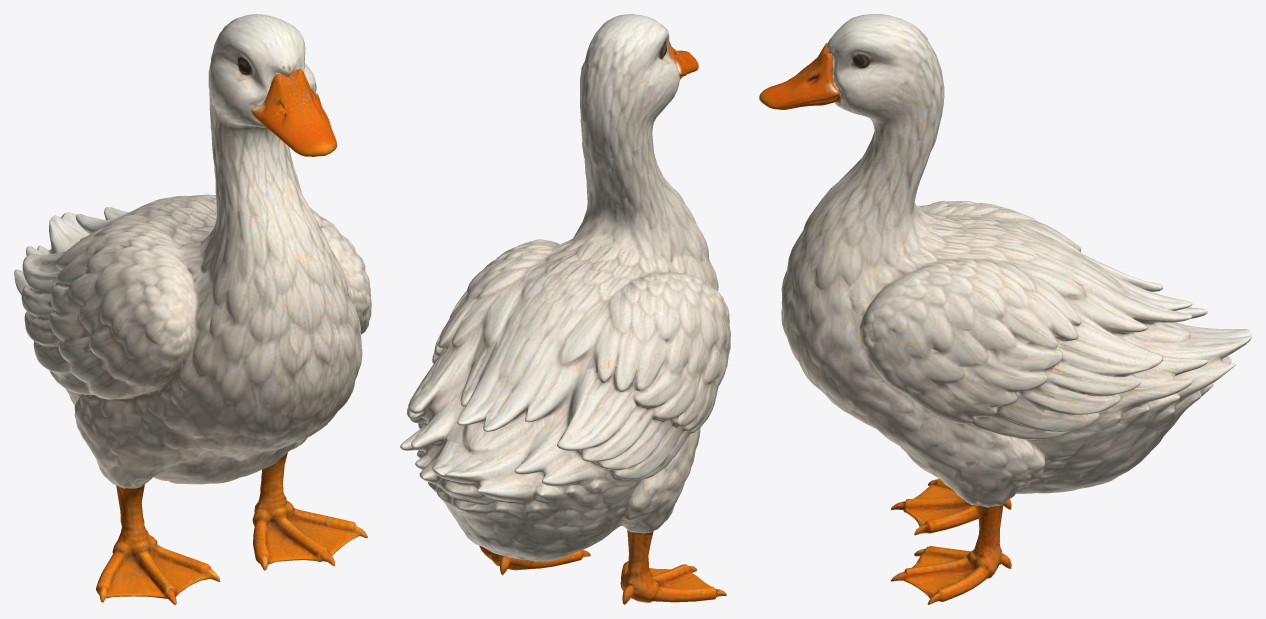
The picture shows the model from 3 angles, left to right: view 1: azimuth 30°, elevation 25°; view 2: azimuth 150°, elevation 25°; view 3: azimuth 270°, elevation 25°; orthographic projection. The views are drawn at different scales.
Size of the model in its own units: 0.9267 by 1.9 by 1.61.
1 material, 1 textured.
